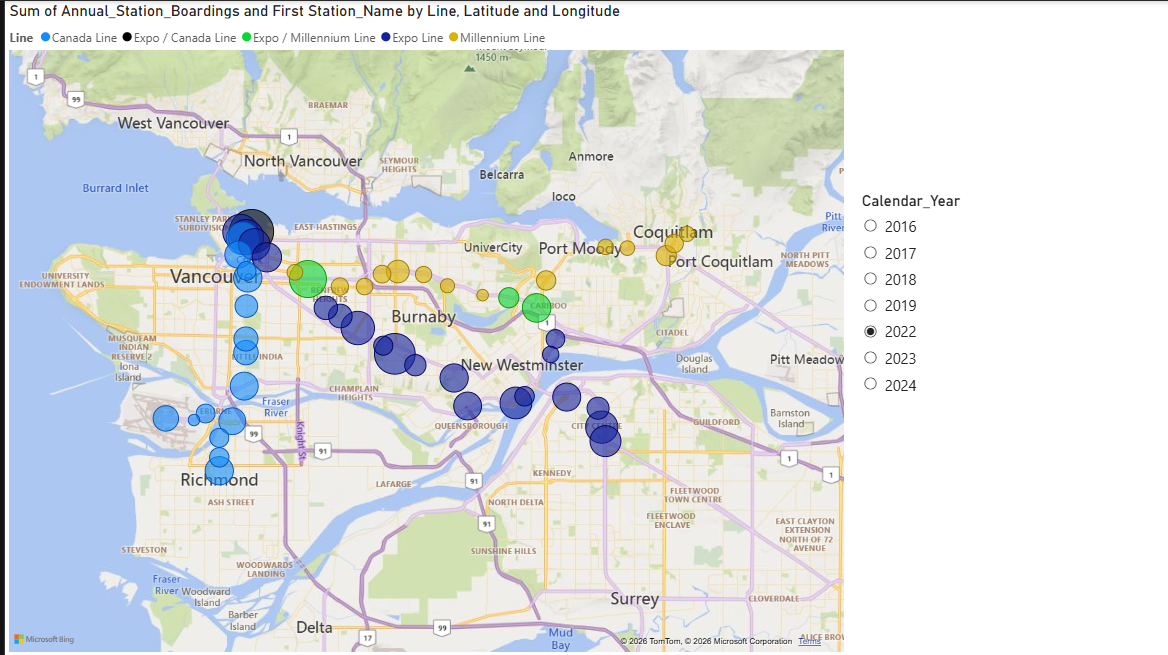

Layout of this report page (visuals, bound fields, positions):
{"tool":"powerbi","page":{"name":"Map Visual","canvas":[1280,720],"ordinal":1},"visuals":[{"type":"map","fields":{"Size":["Sum(Sheet1.Annual_Station_Boardings)"],"Y":["Sheet1.Latitude"],"X":["Sheet1.Longitude"],"Series":["Sheet1.Line"]},"box":[0,0,925.7,720],"z":0},{"type":"listSlicer","fields":{"Values":["Sheet1.Calendar_Year"]},"box":[935.7,208.6,344.3,261.4],"z":1000}]}

Visuals, with their boxes in screenshot pixels (x1, y1, x2, y2), scaled from the page's 1280x720 canvas onto the 1168x655 screenshot:
map - Sum(Sheet1.Annual_Station_Boardings) x Sheet1.Latitude: region(0, 0, 845, 654)
listSlicer - Sheet1.Calendar_Year: region(854, 190, 1167, 428)
